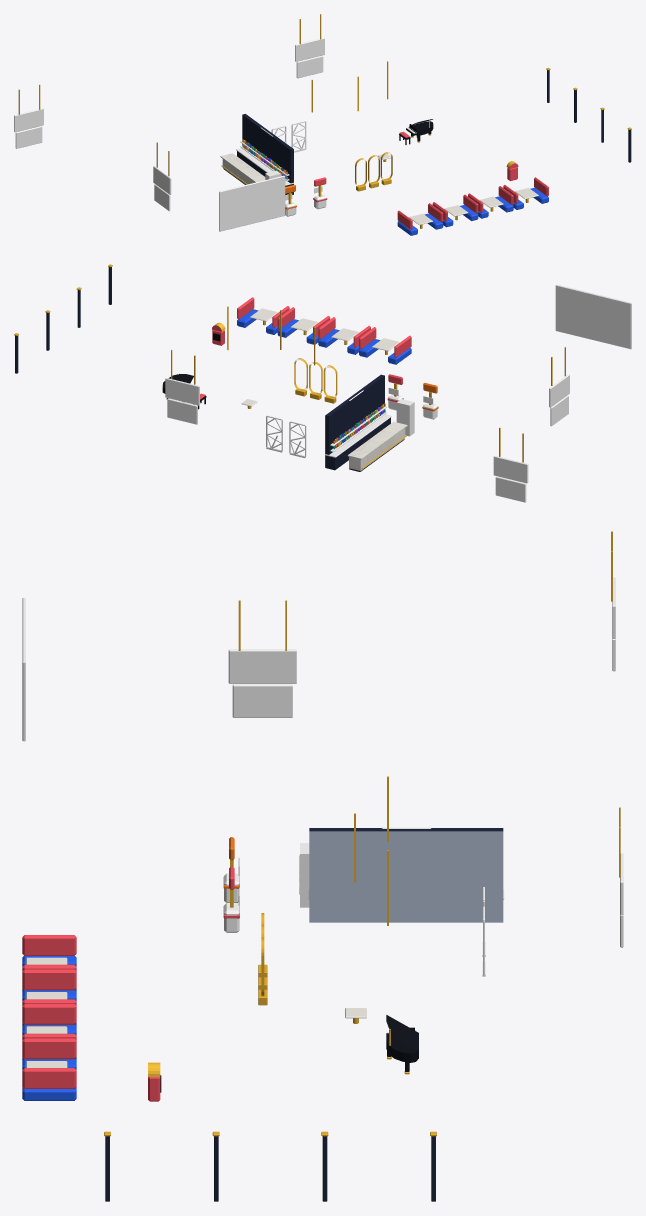
File: Hub_Furniture.fbx
3 renders of one model, top to bottom at view 1: azimuth 30°, elevation 25°; view 2: azimuth 150°, elevation 25°; view 3: azimuth 270°, elevation 25°, orthographic. The views are drawn at different scales.
Parts seen in each view (by area): view 1: Furn_SignFrames, Furn_Booths, Furn_Bar, Furn_Lounge, Furn_Bar_Marble, Furn_Kiosks, Placeholder_Piano; view 2: Furn_SignFrames, Furn_Bar, Furn_Booths, Furn_Lounge, Furn_Bar_Marble, Furn_Kiosks; view 3: Furn_Bar, Furn_Booths, Furn_SignFrames, Furn_Lounge, Placeholder_Piano, Furn_Kiosks.
Part boxes in pixels (x1,y1,x2,y2): Furn_SignFrames: (14, 14, 324, 231); Furn_Booths: (397, 177, 548, 235); Furn_Bar: (221, 114, 293, 194); Furn_Lounge: (271, 61, 631, 191); Furn_Bar_Marble: (220, 153, 265, 184); Furn_Kiosks: (285, 177, 327, 216); Placeholder_Piano: (406, 119, 433, 142); Furn_SignFrames: (165, 284, 631, 502); Furn_Bar: (325, 374, 414, 471); Furn_Booths: (237, 297, 411, 364); Furn_Lounge: (14, 264, 337, 457); Furn_Bar_Marble: (347, 421, 407, 470); Furn_Kiosks: (387, 374, 438, 419); Furn_Bar: (299, 827, 504, 922); Furn_Booths: (22, 935, 76, 1100); Furn_SignFrames: (22, 531, 623, 947); Furn_Lounge: (104, 776, 485, 1201); Placeholder_Piano: (386, 1015, 418, 1074); Furn_Kiosks: (223, 837, 239, 932).
Bounding box in the file's own units: 146 × 28 × 77.5.
Materials: 2 (2 with a texture image).
